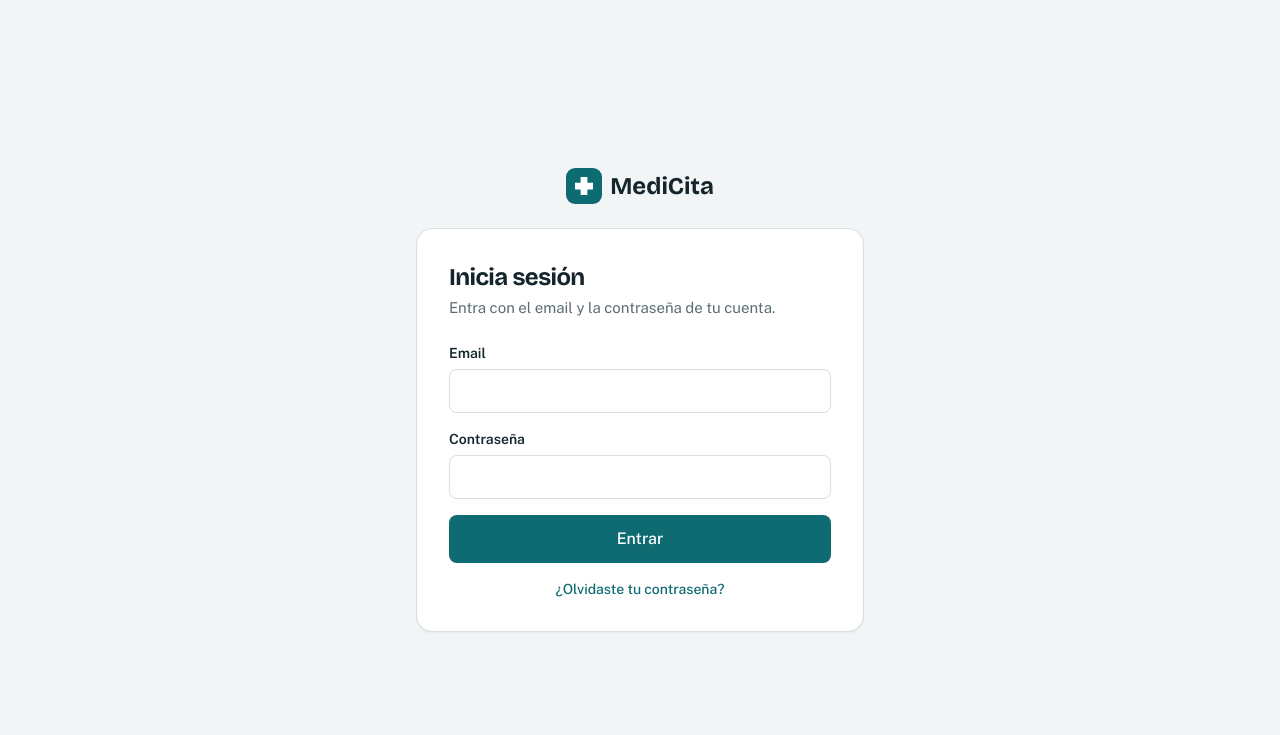
Test: rutas protegidas por rol › sin sesión lleva al login y, al entrar, a la pantalla del rol
Expected: the heading "Inicia sesión" is shown, [449, 263, 585, 291]
Type "medico.general@demo.medicita.app" into the field labelled "Email" at (640, 391), box [449, 369, 831, 413]
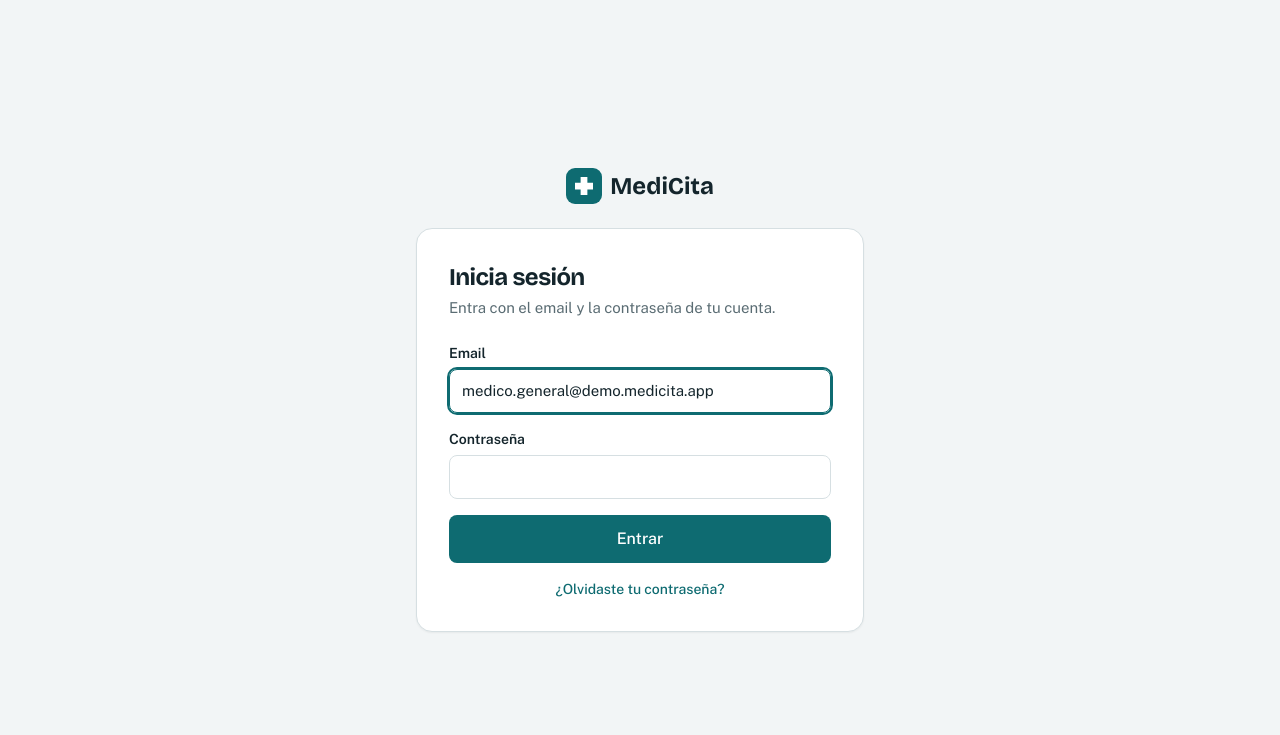
Type "Demo2026medicita" into the password field labelled "Contraseña" at (640, 477), box [449, 455, 831, 499]
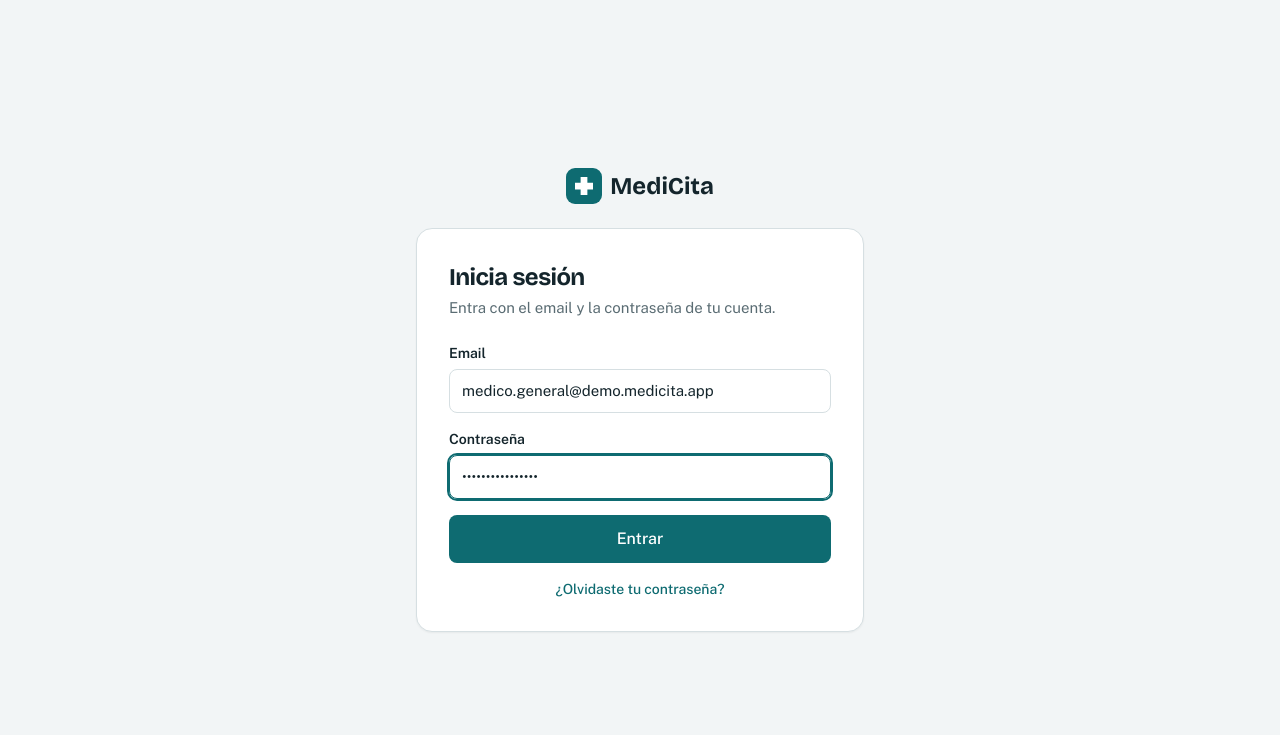
Click the button "Entrar" at (640, 539), box [449, 515, 831, 563]
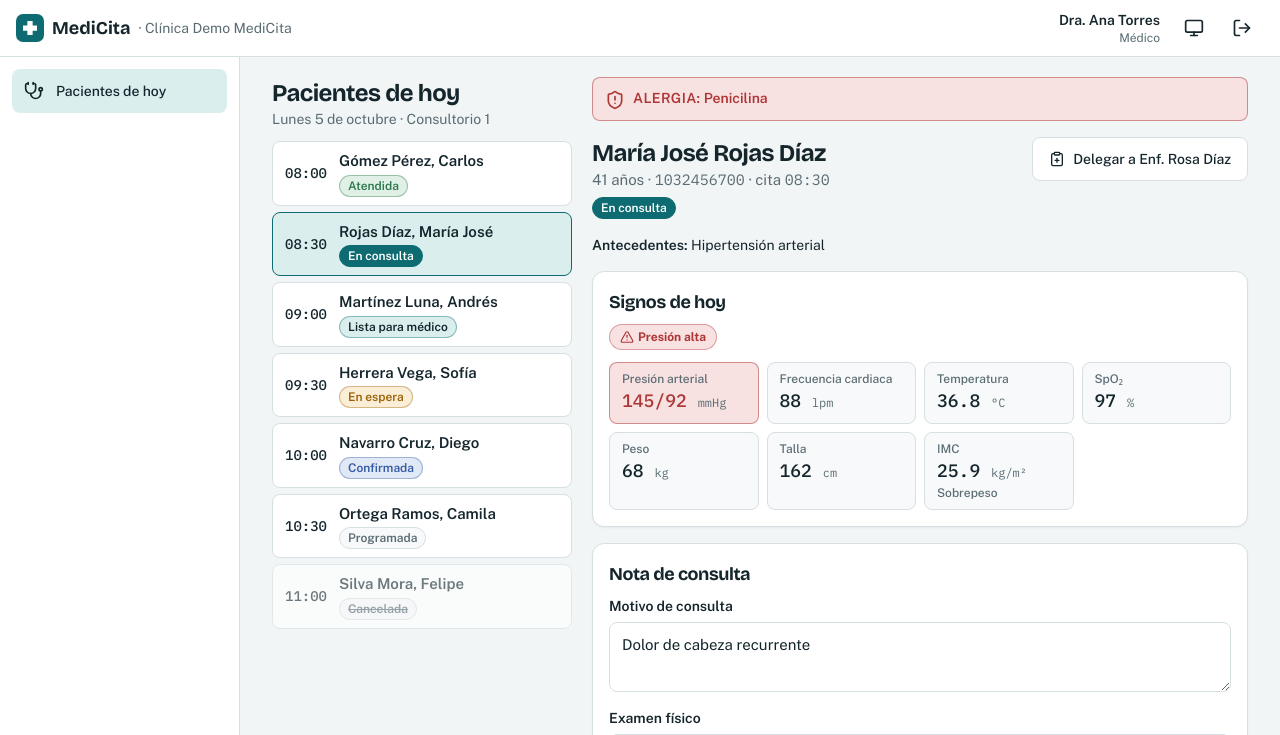
Now the heading "Pacientes de hoy" is shown, box [272, 79, 460, 107]
